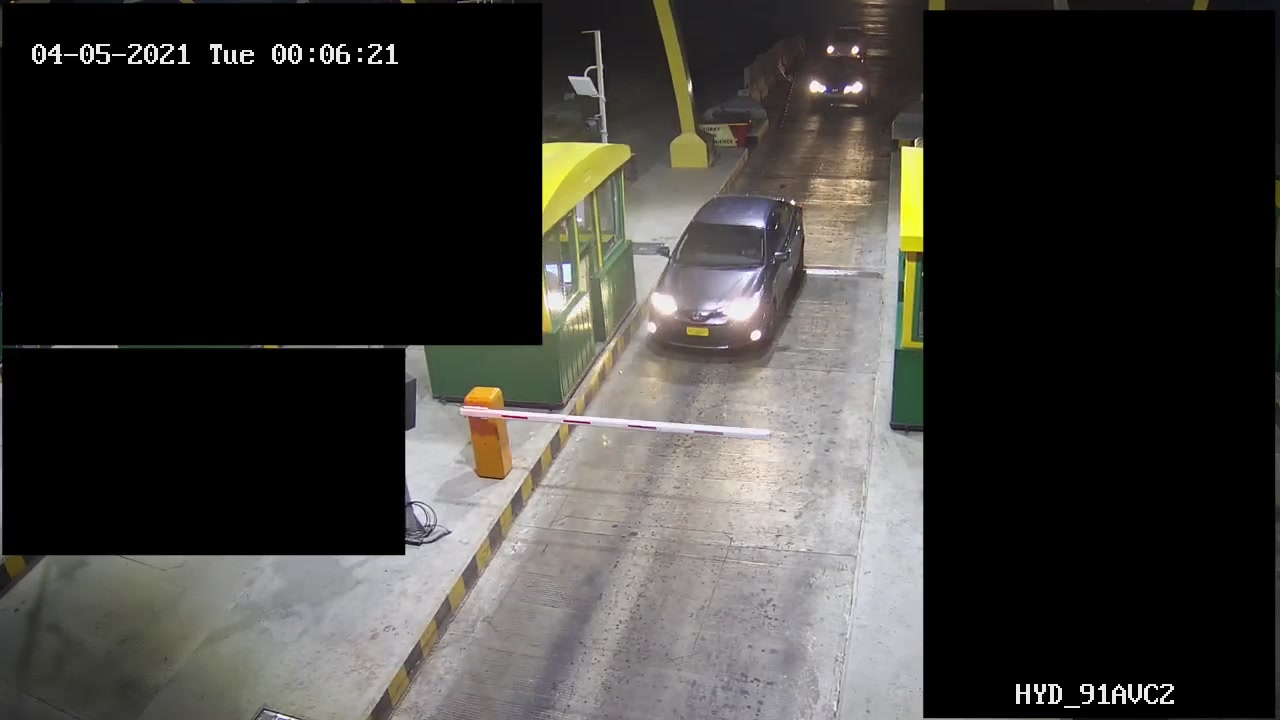F1: (629, 174, 824, 362)
